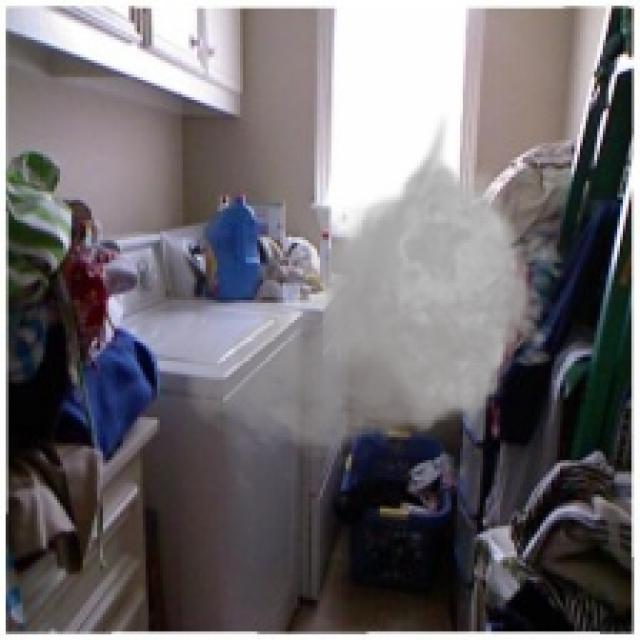smoke: (180, 111, 577, 468)
